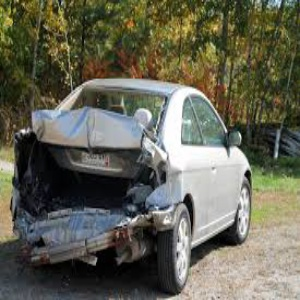bonnet: (35, 105, 141, 157)
